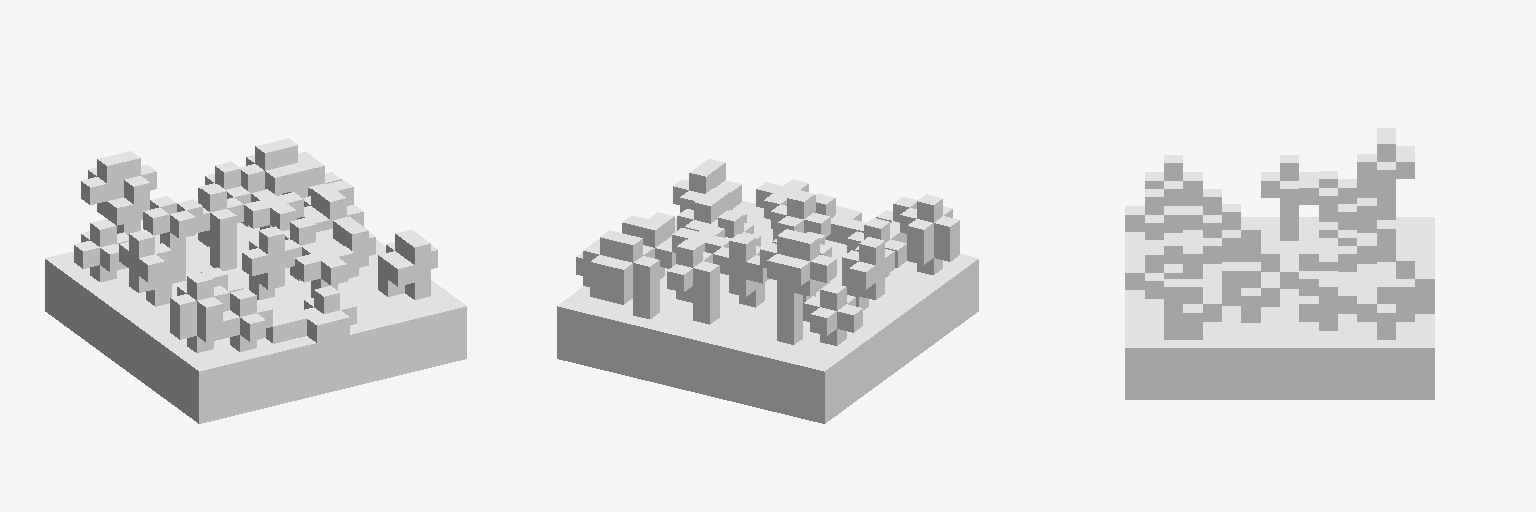
Rendered from FlowerPatch.obj.
3 views of the same model, side by side, from view 1: azimuth 30°, elevation 25°; view 2: azimuth 150°, elevation 25°; view 3: azimuth 270°, elevation 25° (orthographic).
Parts seen in each view (by area): view 1: FlowerPatch; view 2: FlowerPatch; view 3: FlowerPatch.
Part boxes in pixels (bbox=[...]): FlowerPatch: bbox=[45, 138, 466, 423]; FlowerPatch: bbox=[557, 159, 978, 423]; FlowerPatch: bbox=[1125, 128, 1434, 399].
Size of the model in its own units: 16 by 9 by 16.